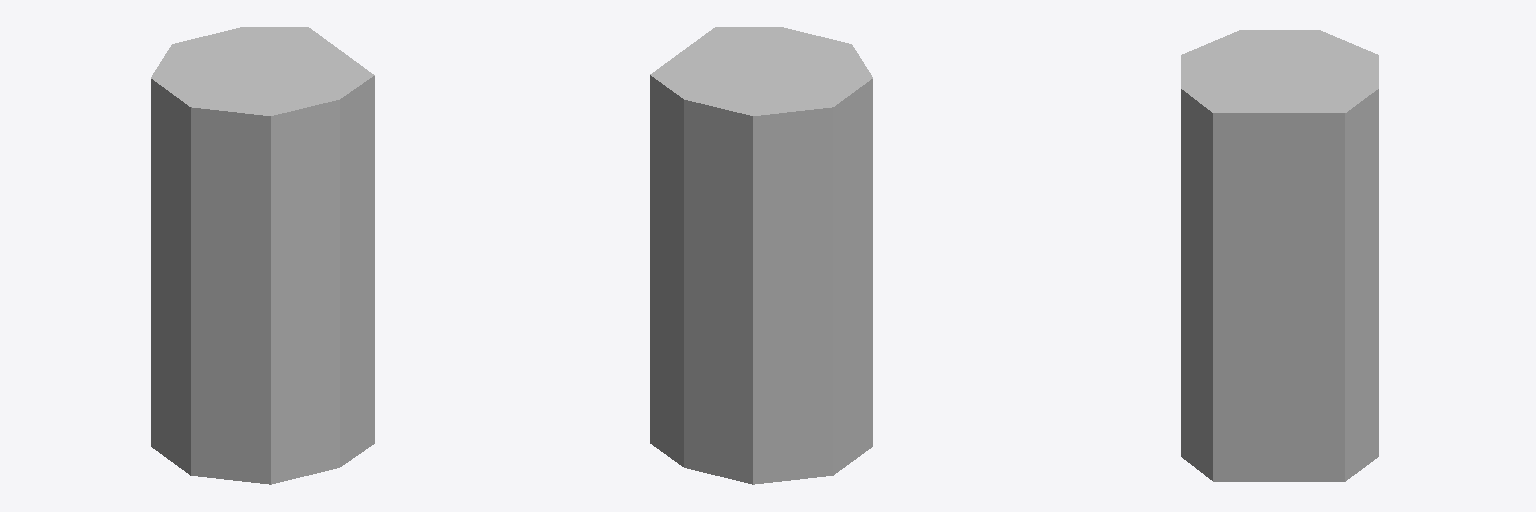
The model's file is enemy_bodyguard.obj.
3 renders of one model, left to right at view 1: azimuth 30°, elevation 25°; view 2: azimuth 150°, elevation 25°; view 3: azimuth 270°, elevation 25°, orthographic.
Parts seen in each view (by area): view 1: Cube; view 2: Cube; view 3: Cube.
Part boxes in pixels (left/top/right/bottom): Cube: left=151, top=27, right=374, bottom=484; Cube: left=650, top=27, right=872, bottom=484; Cube: left=1181, top=30, right=1378, bottom=481.
Bounding box in the file's own units: 24.76 × 51.02 × 24.76.